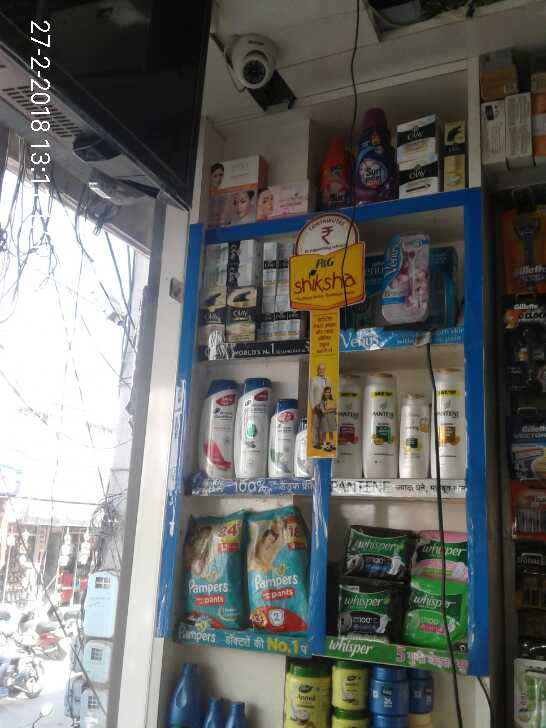gillete: (504, 213, 546, 291), (506, 306, 546, 385), (511, 414, 546, 476), (511, 488, 546, 534)
venus: (388, 231, 433, 321), (434, 249, 459, 321)
